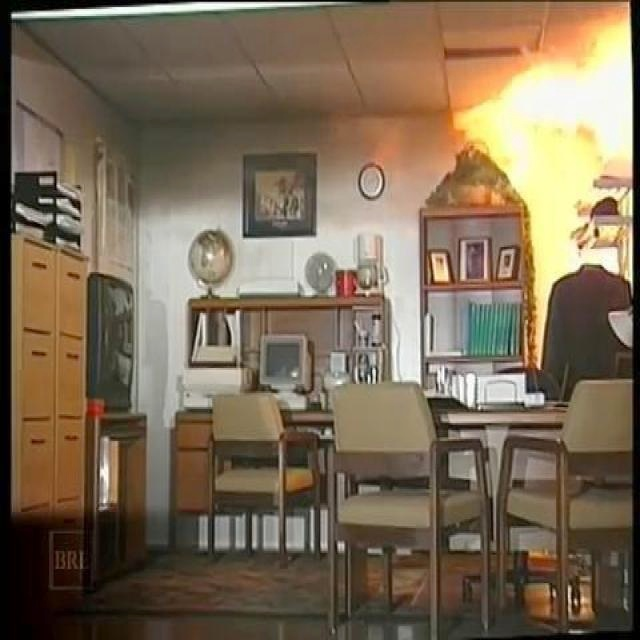fire: (462, 11, 640, 161)
